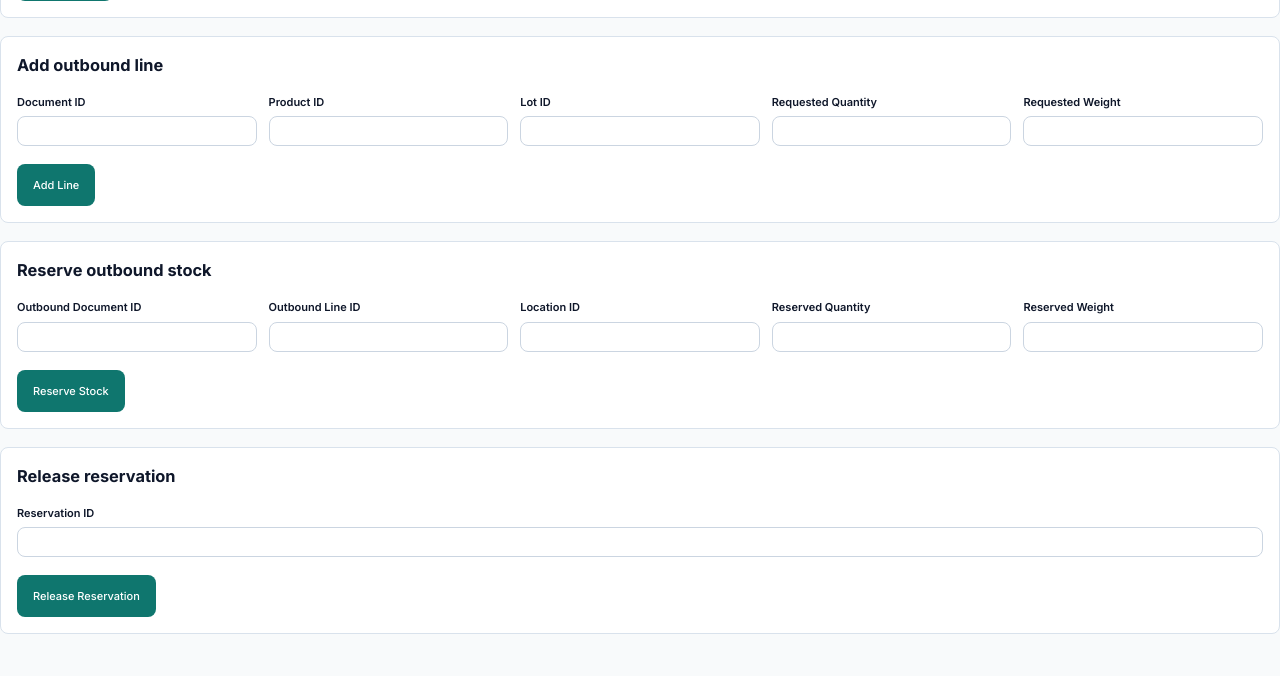
Sprint 14H outbound picking UI draft screens › release action displays service errors
(page scrolled)
In the field named "Release reservation id": (640, 542) [17, 527, 1263, 557], type "reservation-error"
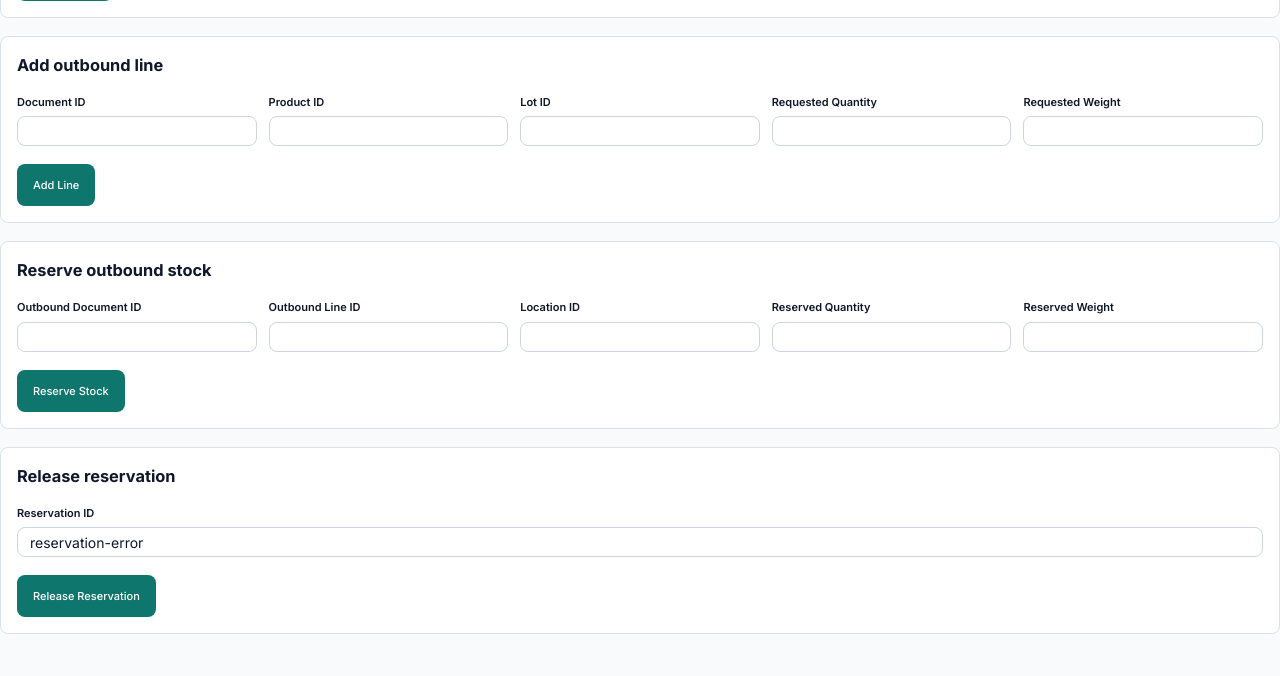
Click the button "Release Reservation": (86, 596) [17, 575, 156, 617]
(page scrolled)
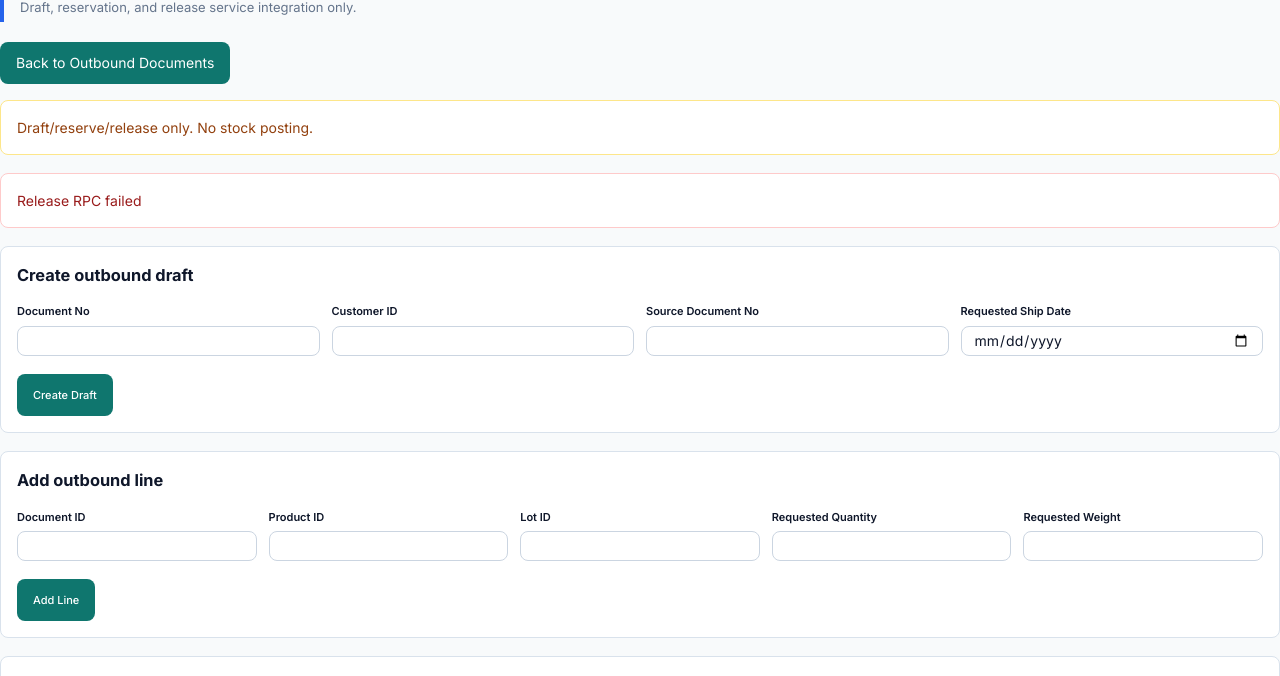
Result: the message "Release RPC failed" is shown at [0, 172, 1279, 228]
